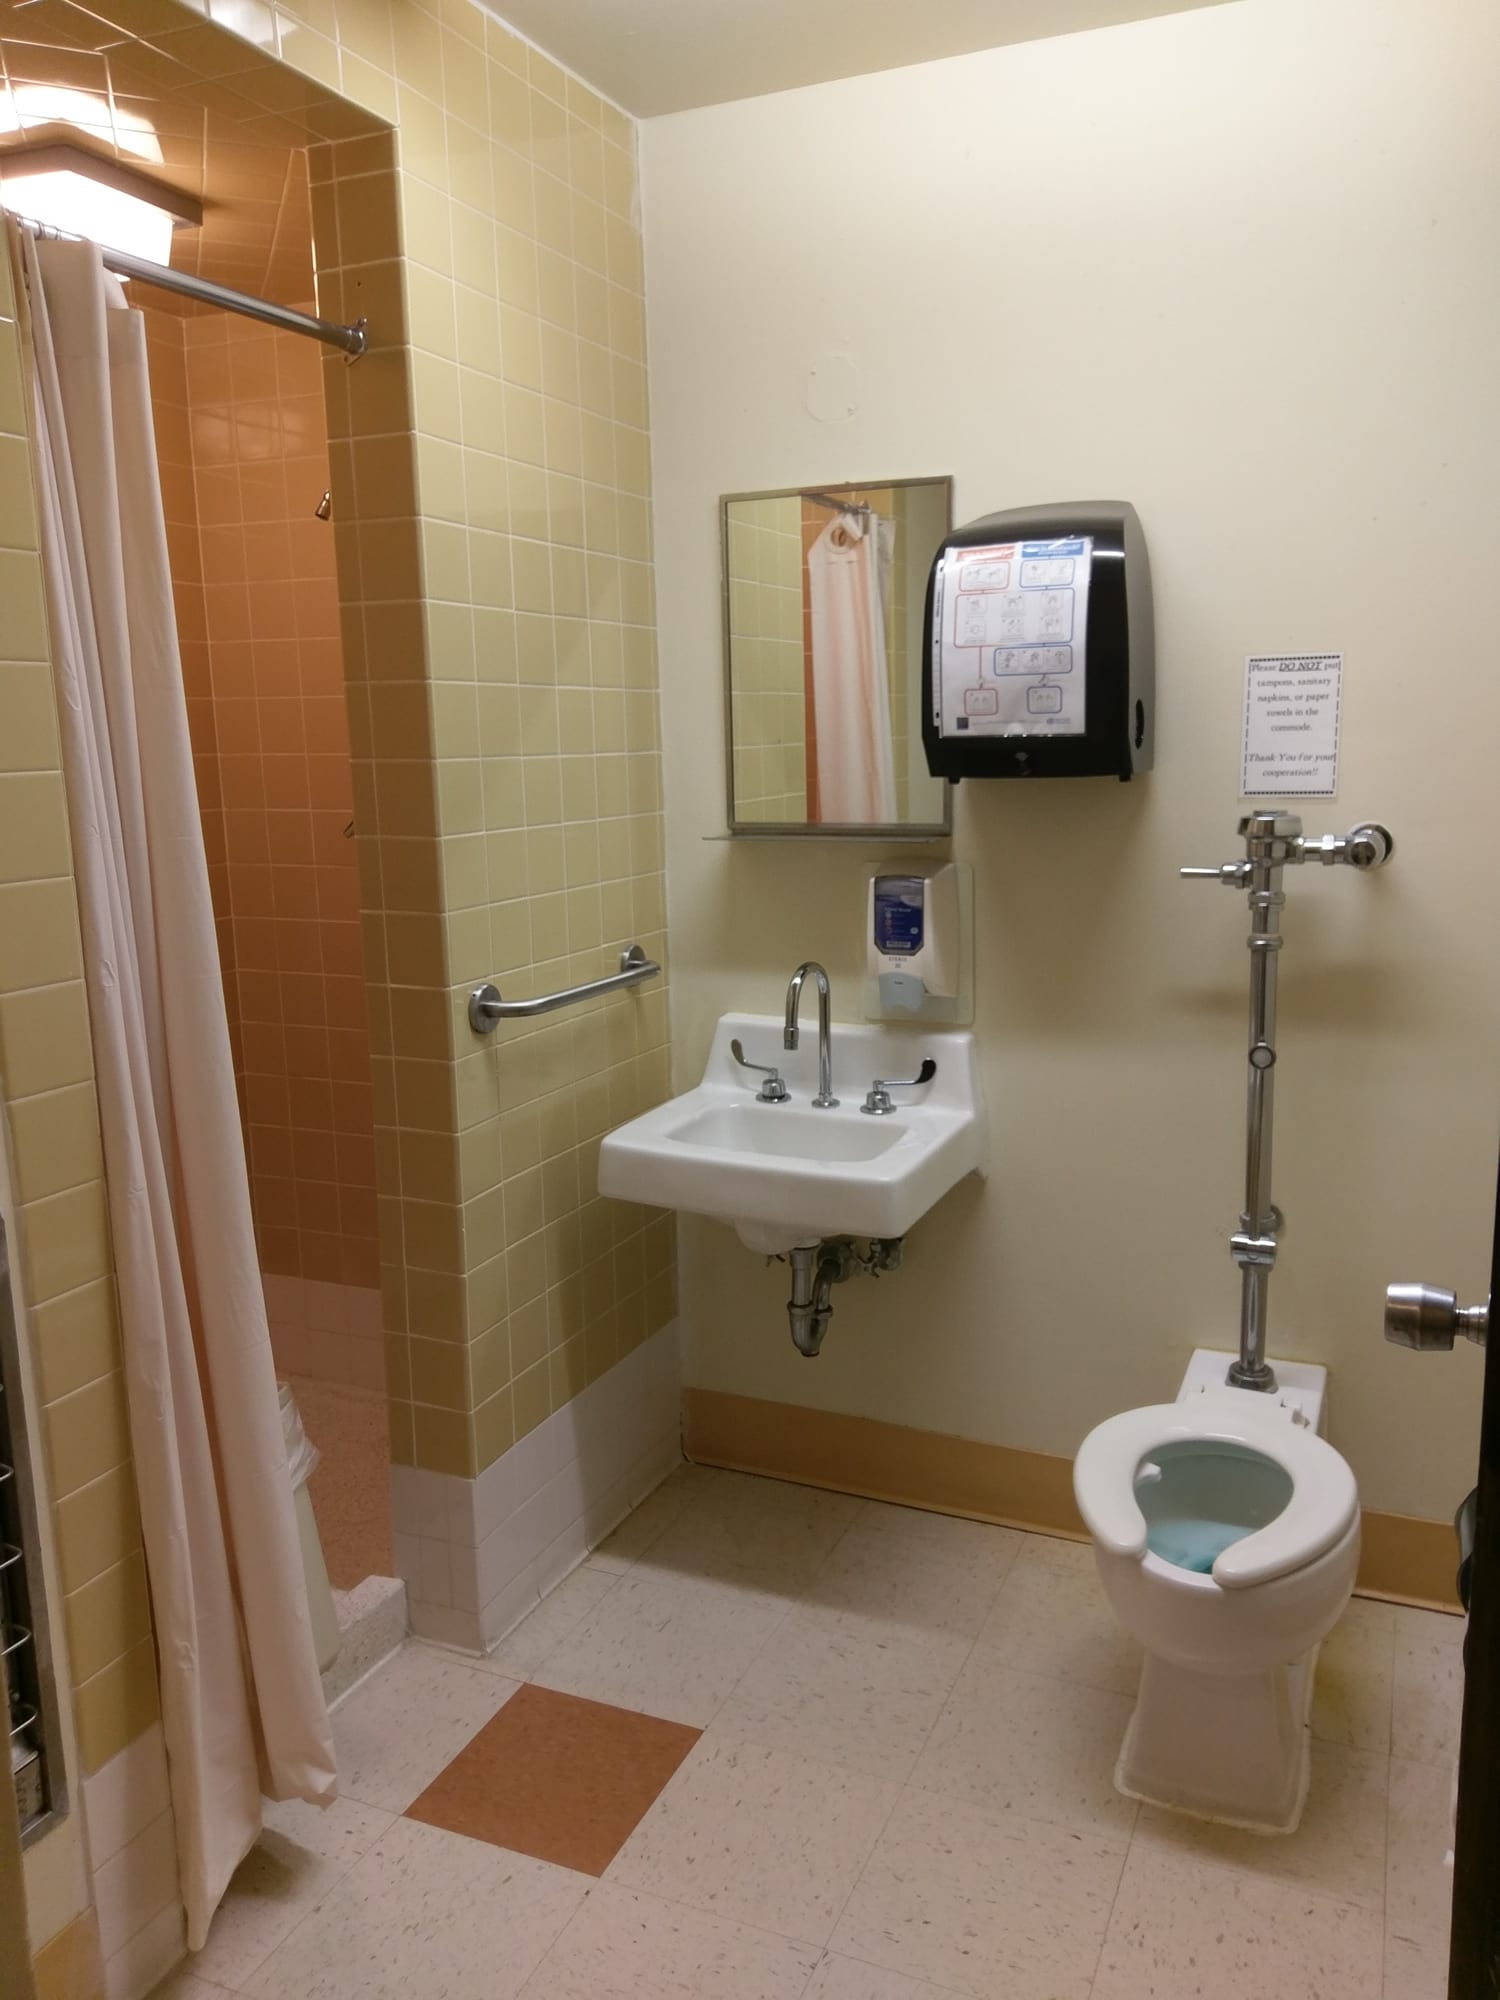curtain: (16, 217, 340, 1939)
dispenser: (919, 496, 1160, 786), (862, 857, 964, 1017)
door_handle: (1383, 1274, 1500, 1357)
faucet: (734, 962, 942, 1118)
restroom_assist_bar: (463, 939, 666, 1038)
sink: (599, 1080, 974, 1230)
toilet: (1073, 1343, 1358, 1836)
toilet_handle: (1164, 854, 1256, 890)
